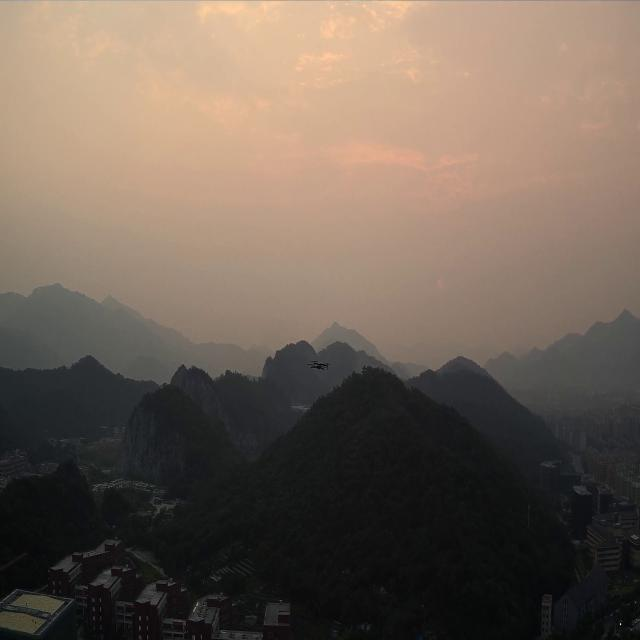UAV: (307, 360, 330, 371)
